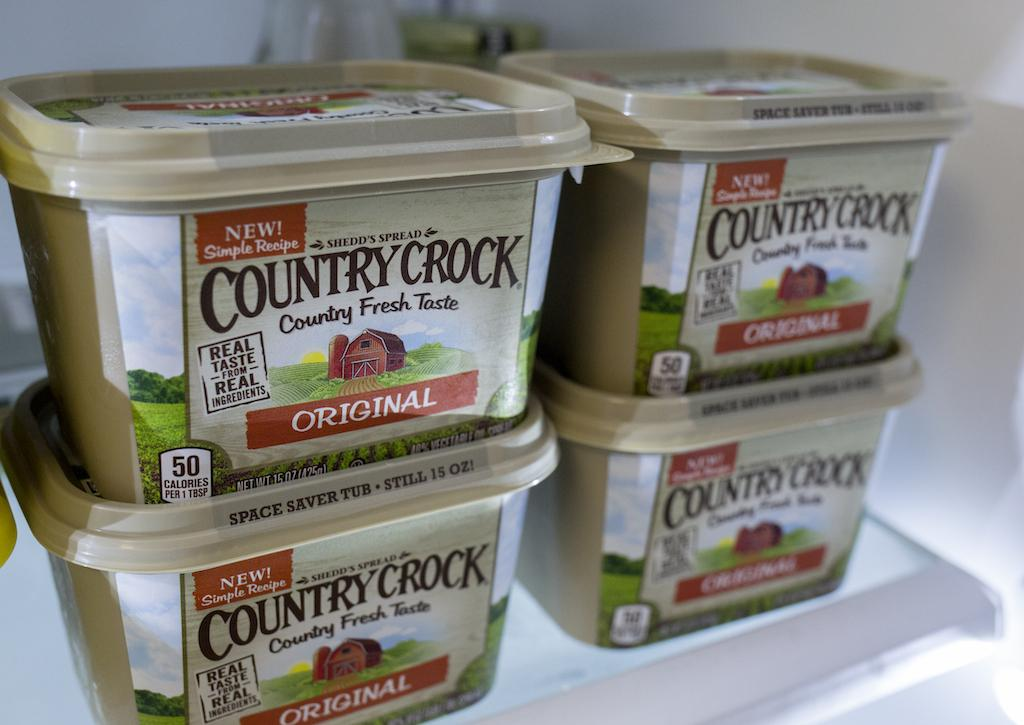plastic: (0, 63, 622, 503), (3, 383, 557, 724), (503, 51, 967, 398), (519, 342, 920, 647), (438, 518, 1023, 724)
